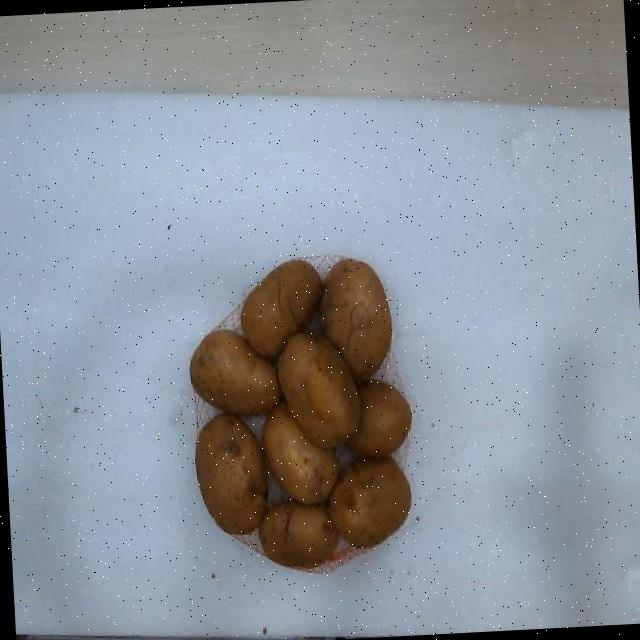potato: (192, 330, 361, 449), (320, 259, 391, 382), (195, 413, 266, 533), (241, 259, 322, 356), (264, 404, 339, 504), (329, 457, 411, 548), (260, 502, 338, 567), (348, 382, 412, 456), (271, 304, 298, 334)
